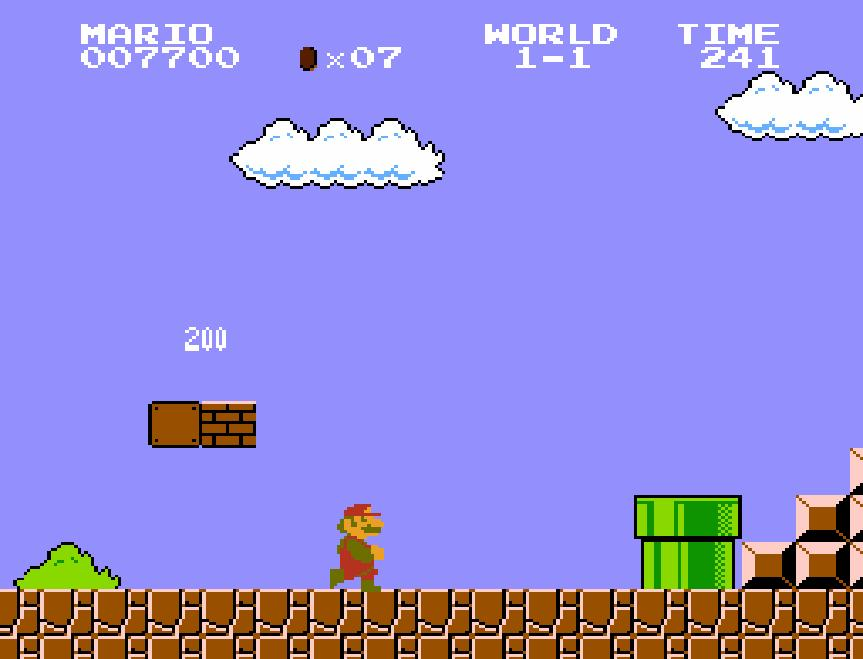big_mario: (328, 496, 386, 594)
